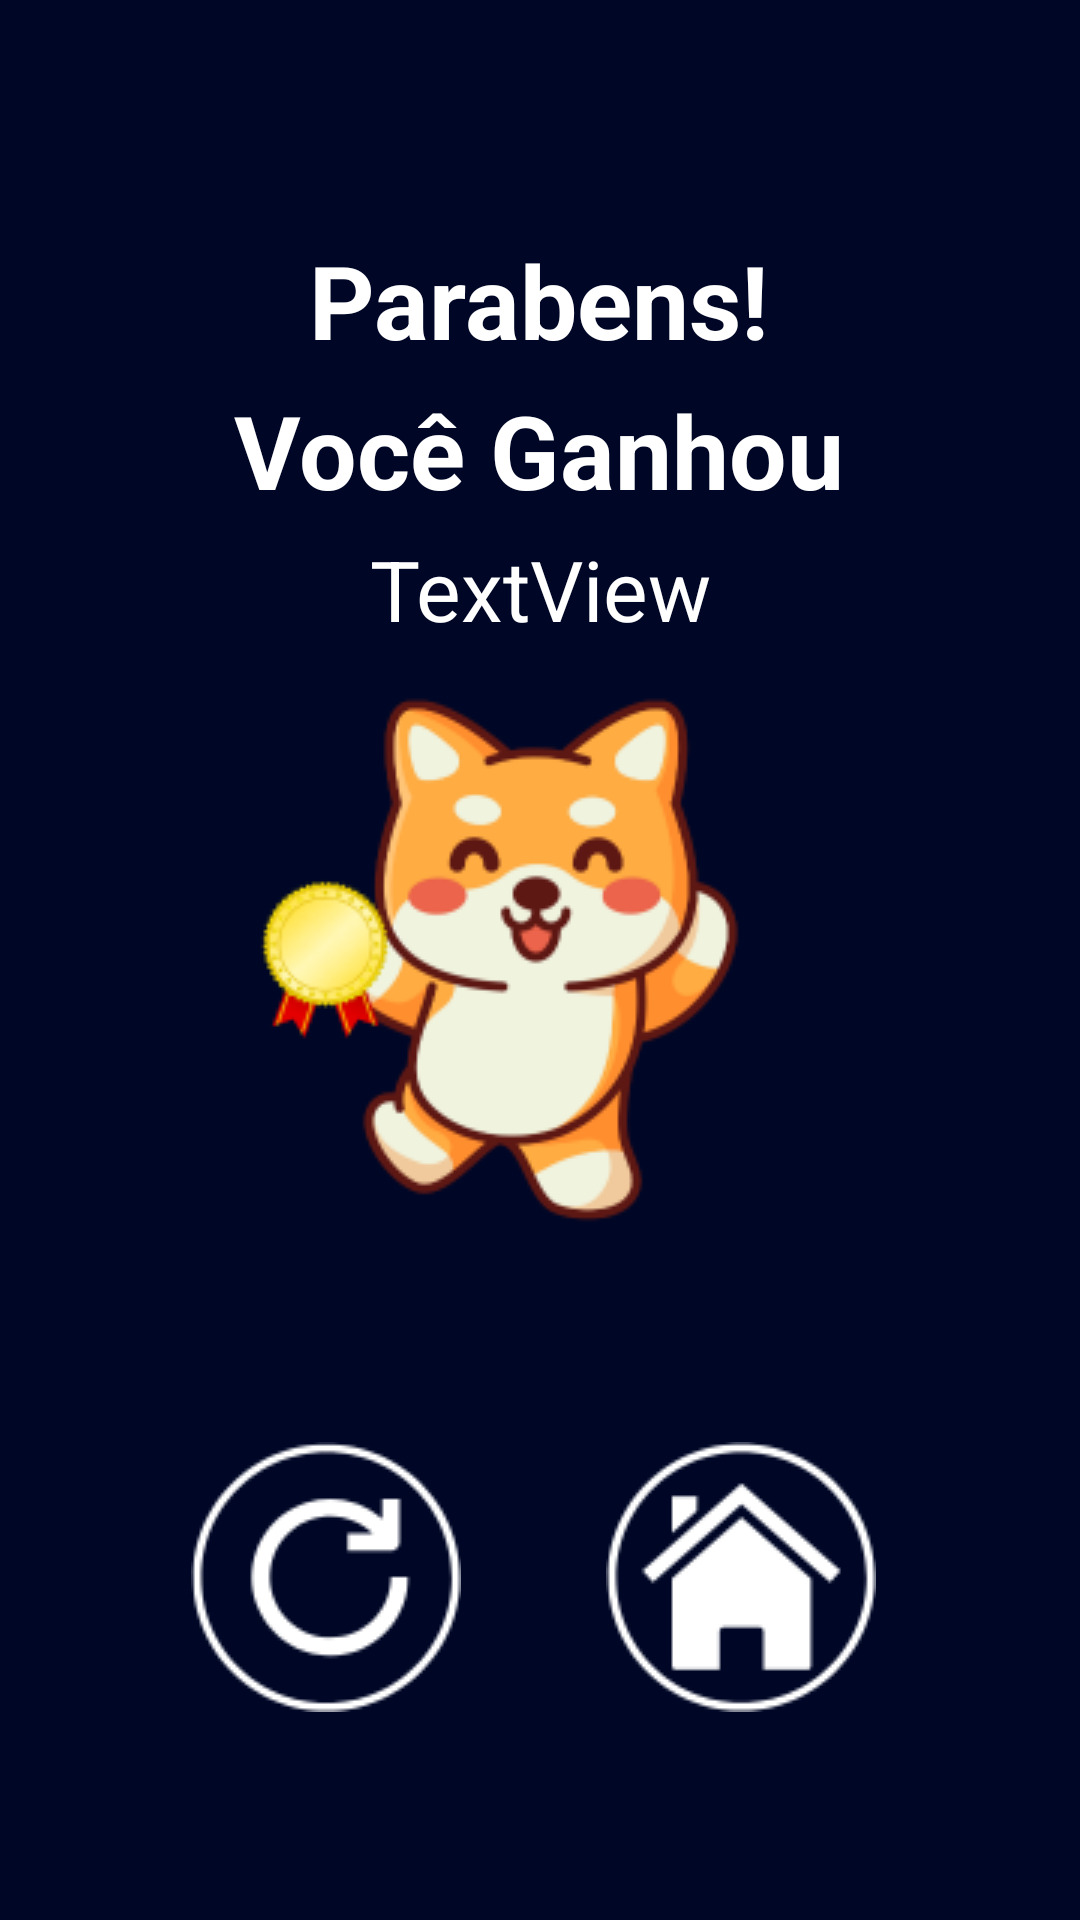

Icons on this 1080w x 1920h Android screen, each with its box as [x1, y1, x2, y2]:
recomecar: [191, 1442, 461, 1712]
voltarhome: [606, 1442, 876, 1712]
